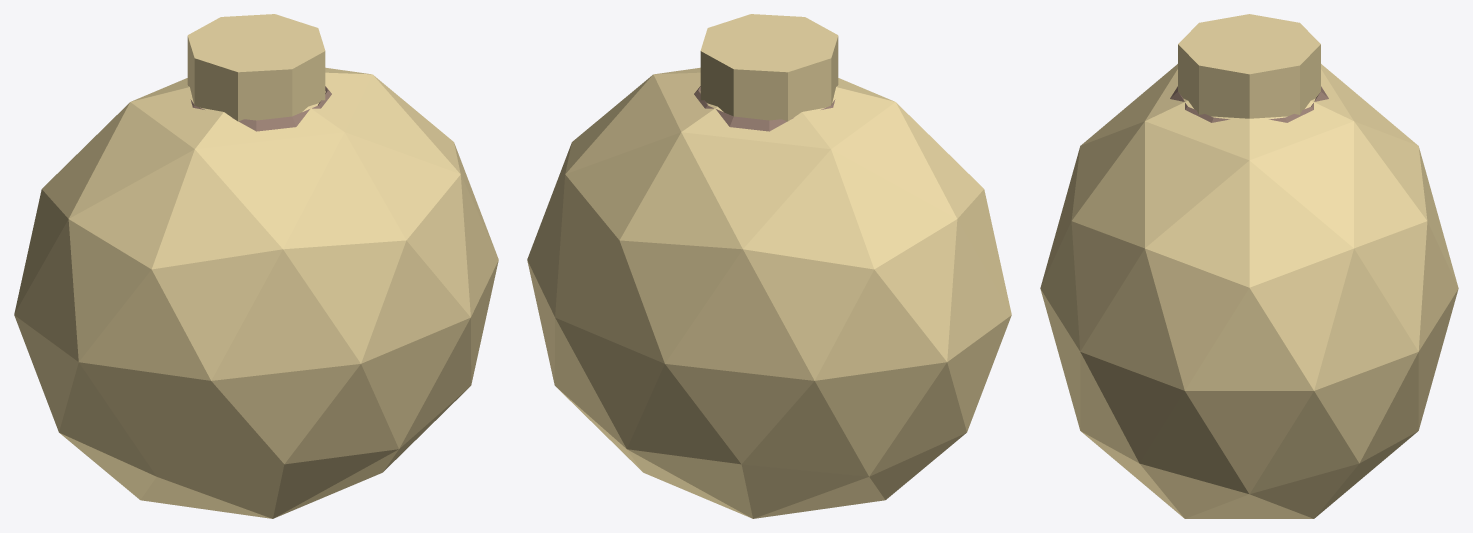
Rendered from cargo_fibre.fbx.
3 renders of one model, left to right at view 1: azimuth 30°, elevation 25°; view 2: azimuth 150°, elevation 25°; view 3: azimuth 270°, elevation 25°, orthographic.
Parts seen in each view (by area): view 1: cargo_fibre_mesh; view 2: cargo_fibre_mesh; view 3: cargo_fibre_mesh.
Boxes of the visible parts, bbox=[...] form: cargo_fibre_mesh: bbox=[14, 14, 498, 518]; cargo_fibre_mesh: bbox=[527, 14, 1011, 518]; cargo_fibre_mesh: bbox=[1040, 14, 1458, 518].
Size of the model in its own units: 0.4375 by 0.459 by 0.3772.
